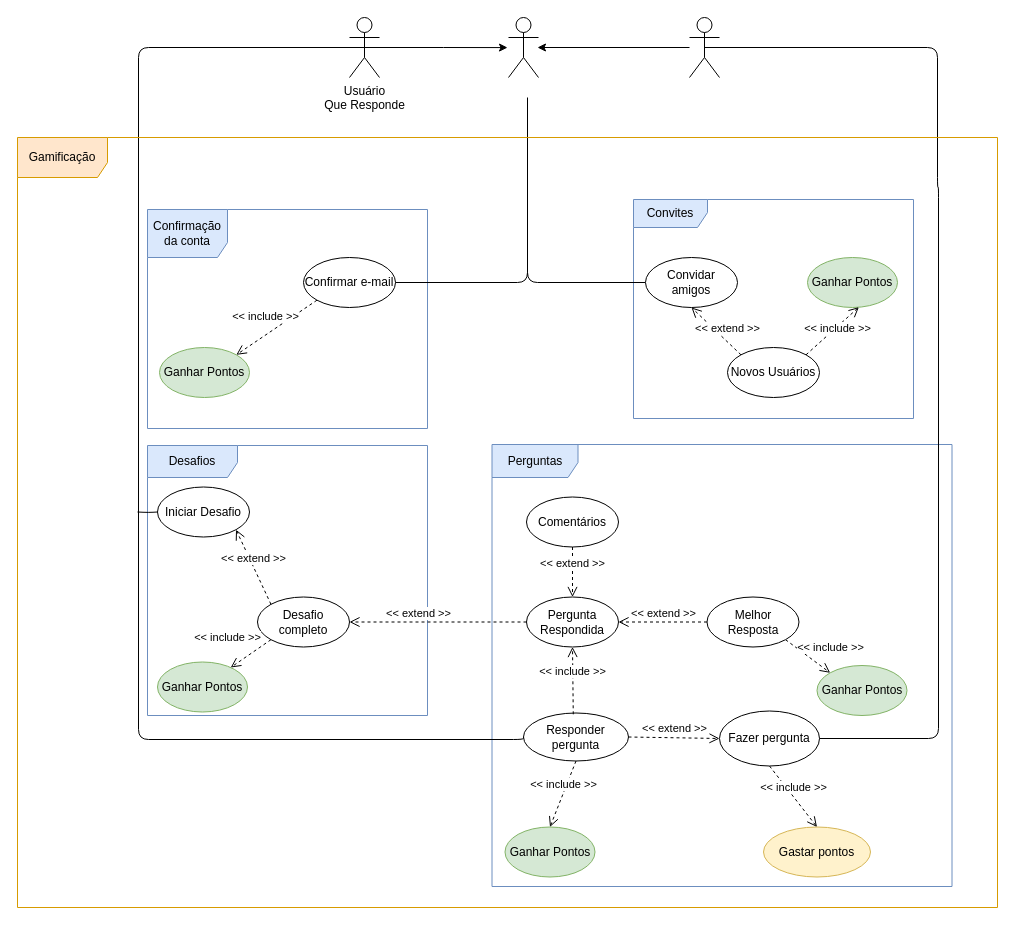
This 1015x925 diagram has some shape labels left out. The centre of each missing label's shape, as x and y in pixels:
Usuário: the point at 523,47
Usuário que Pergunta: the point at 704,47
